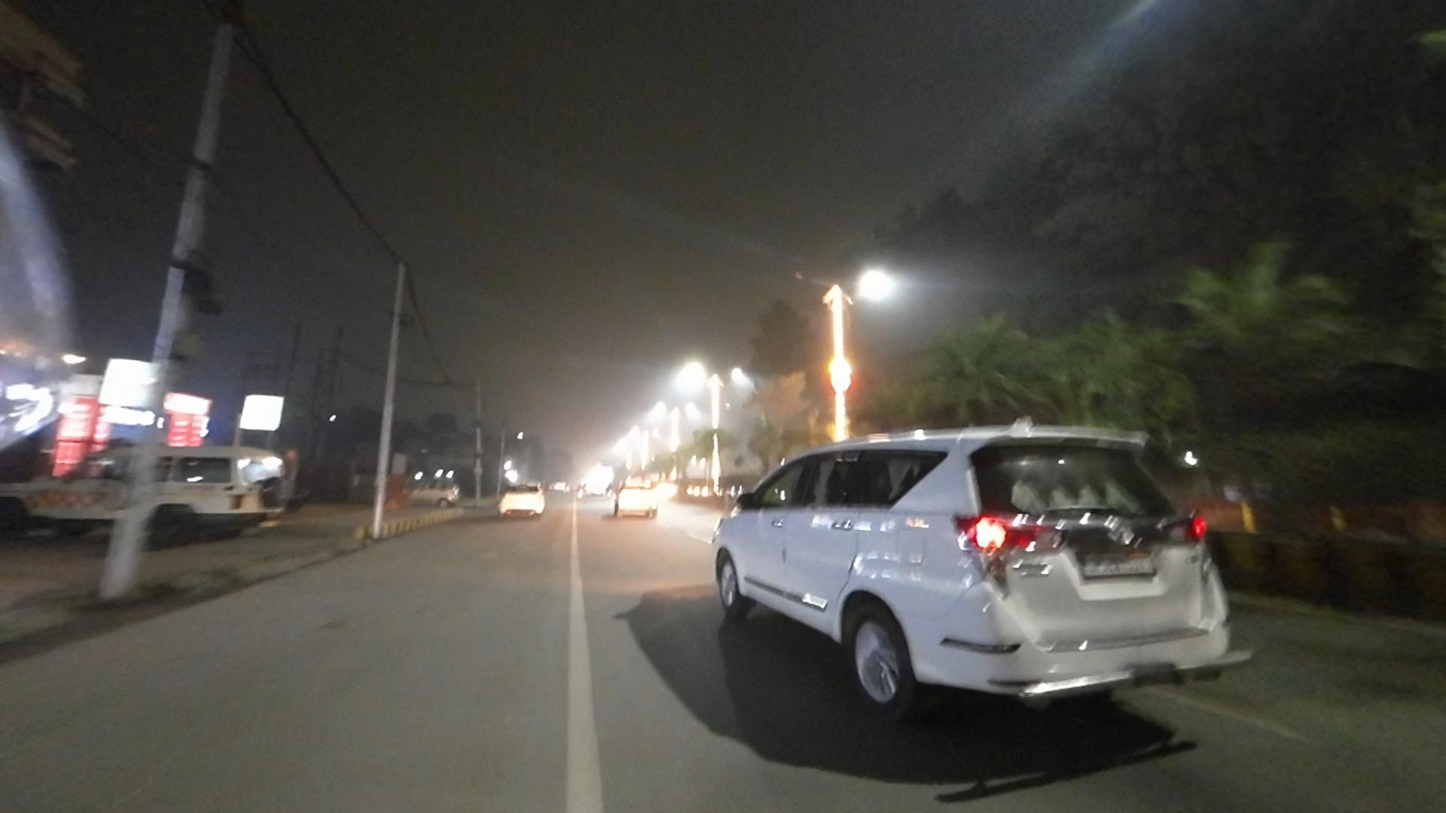streetlight: (794, 267, 828, 288)
